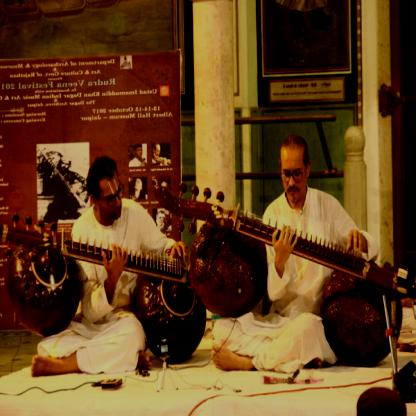Veena: (226, 210, 406, 342), (2, 209, 206, 306)
